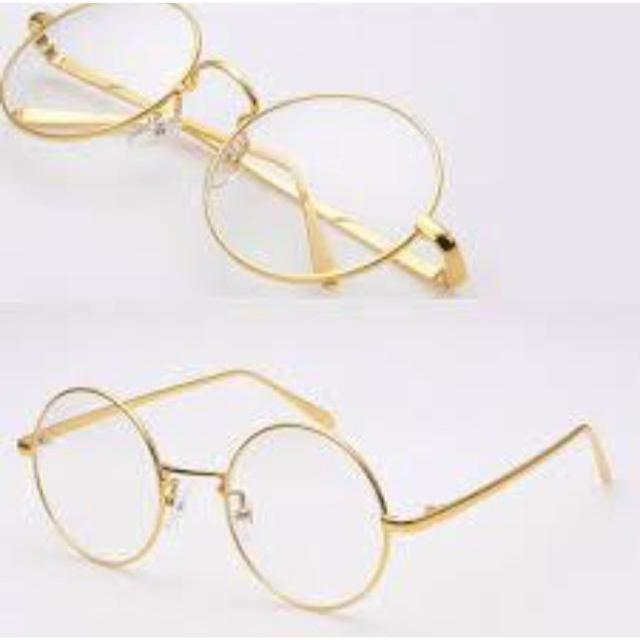glasses: (19, 361, 616, 615), (6, 3, 490, 300)
